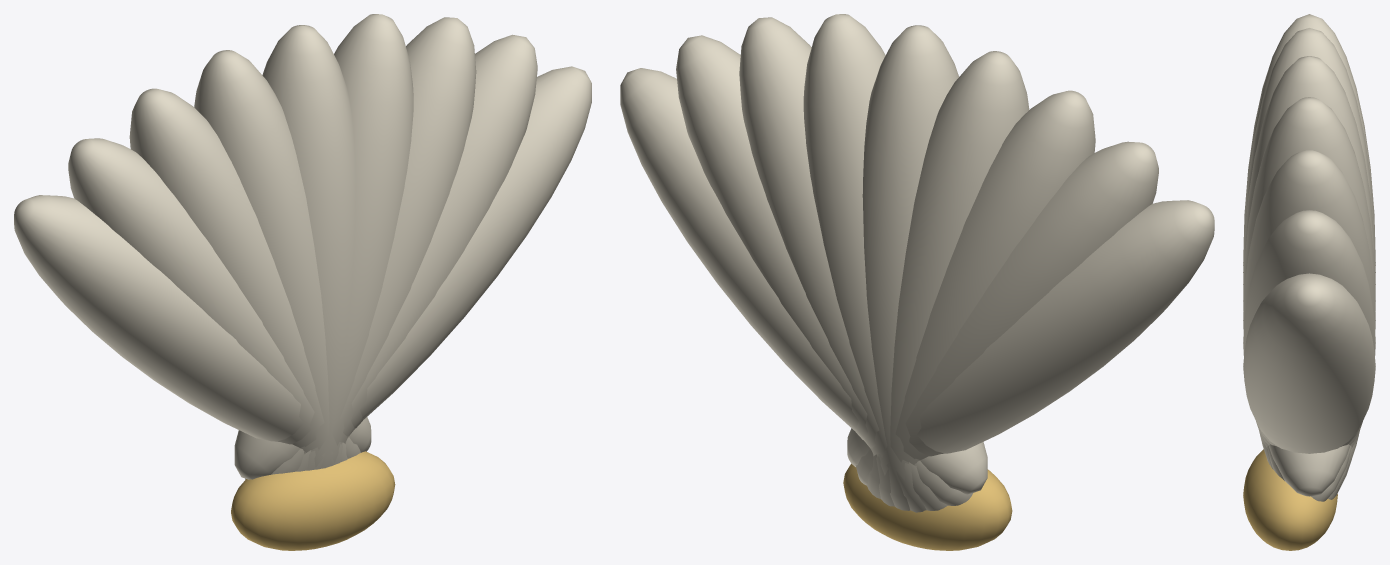
Rendered from shell.glb.
The picture shows the model from 3 angles, left to right: view 1: azimuth 30°, elevation 25°; view 2: azimuth 150°, elevation 25°; view 3: azimuth 270°, elevation 25°; orthographic projection. The views are drawn at different scales.
Bounding box in the file's own units: 1.31 × 1.12 × 0.28.
